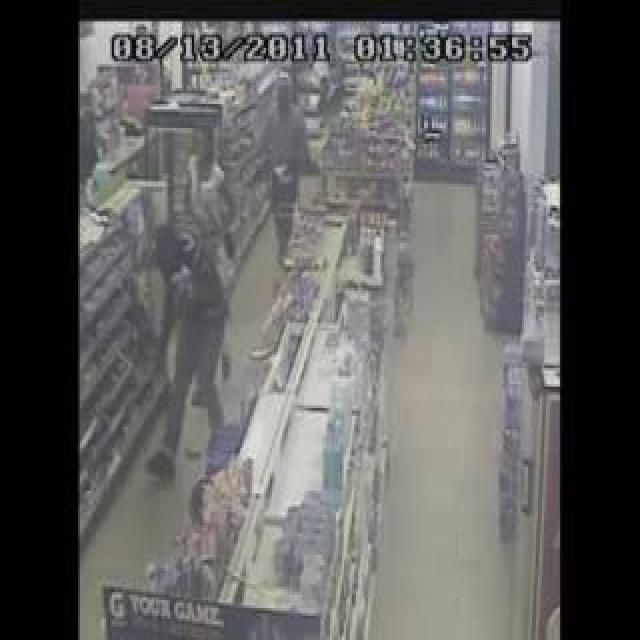thief: (156, 172, 216, 304), (266, 64, 316, 144)
